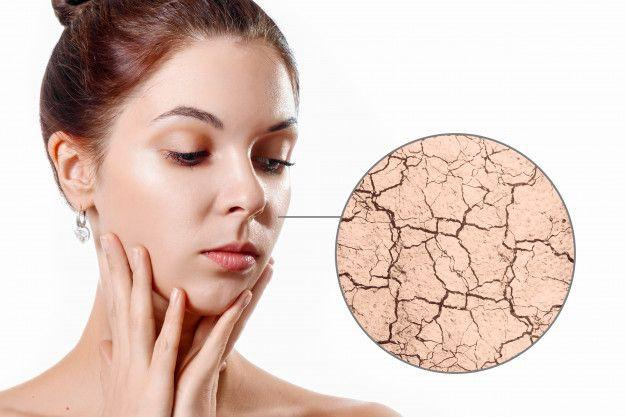Dry-Skin: (334, 132, 581, 378)
